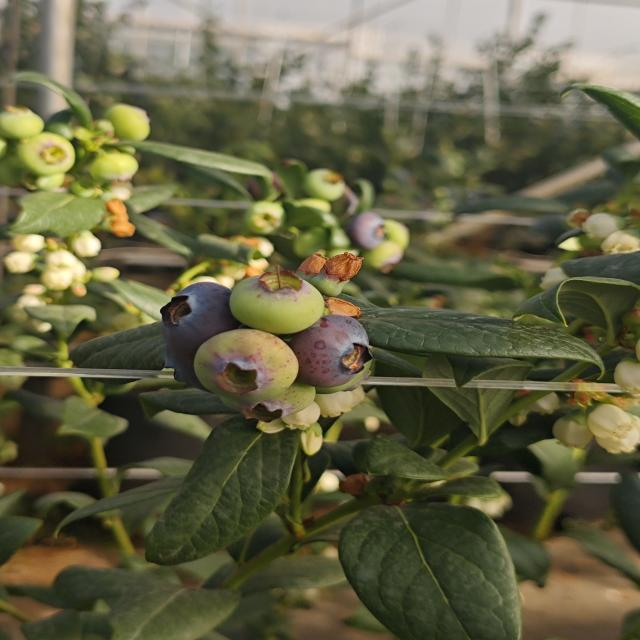ripe: (150, 277, 254, 376), (348, 206, 396, 256)
